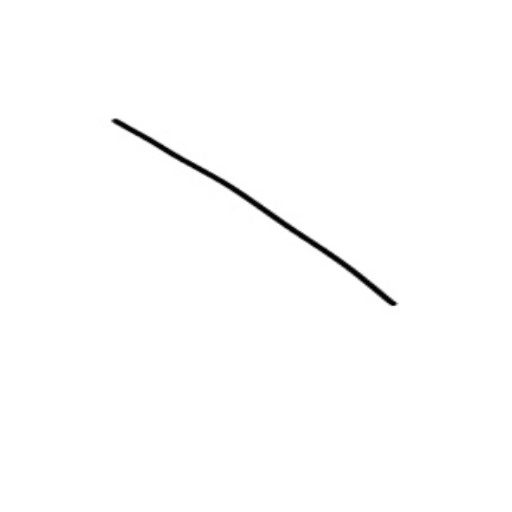line: (105, 104, 412, 317)
